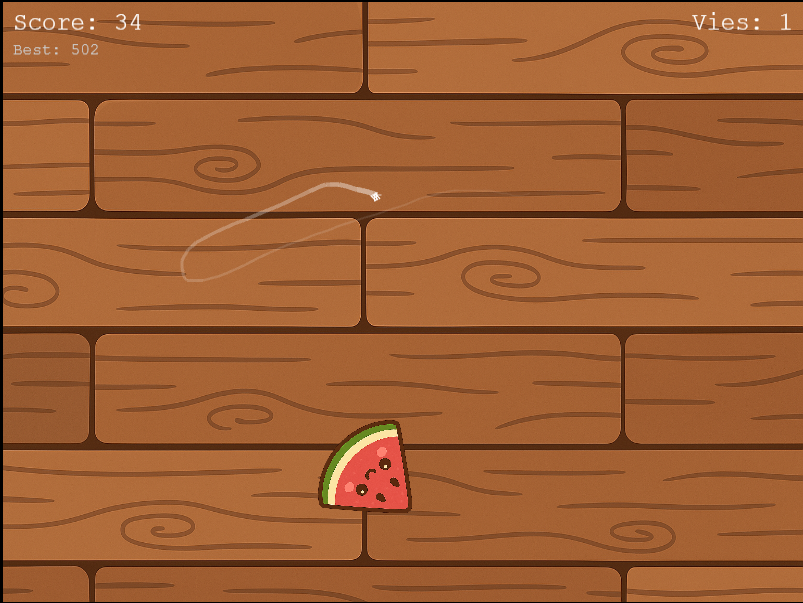fruit: (313, 412, 423, 517)
